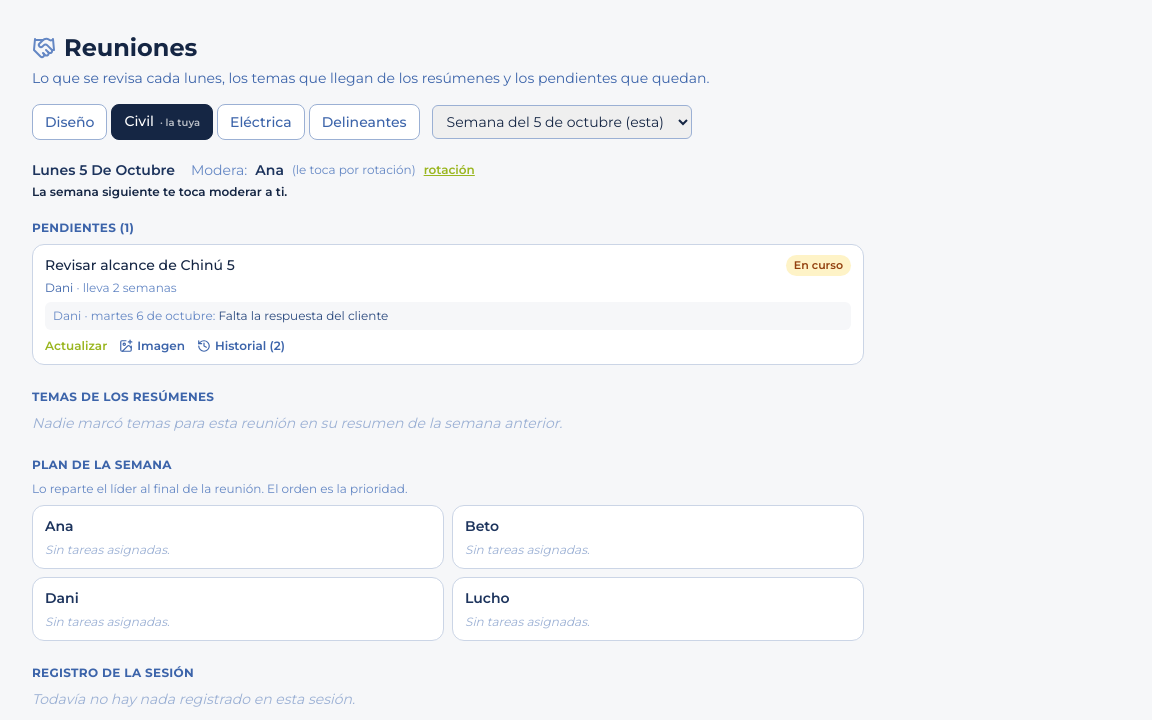
Scenario: quién modera › todos ven la rotación, pero solo el líder la edita
Click the button "rotación" at (449, 170), box [424, 162, 475, 178]
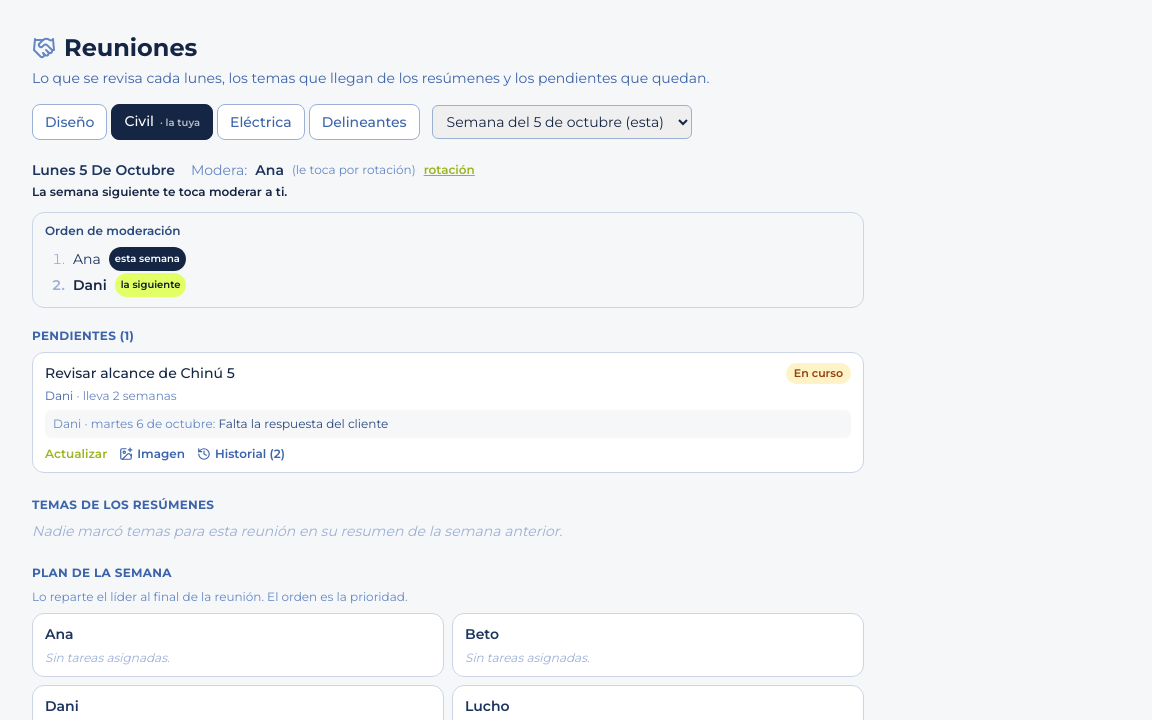
Check: the text "Orden de moderación" is shown, box [45, 223, 180, 238]
Check: the text "esta semana" is shown, box [109, 247, 186, 271]
